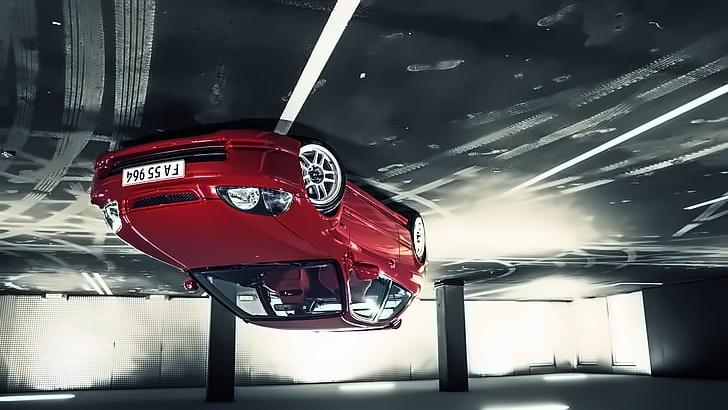Car hood: (120, 204, 326, 271)
Driver-s door - -F-R-: (331, 163, 399, 337)
Fender - -F-R-: (271, 181, 361, 254)
Front bumper: (82, 133, 303, 208)
Headlight - -L-: (101, 201, 126, 234)
Headlight - -R-: (215, 182, 295, 218)
Side mirror - -R-: (343, 178, 415, 237), (335, 248, 379, 283)
